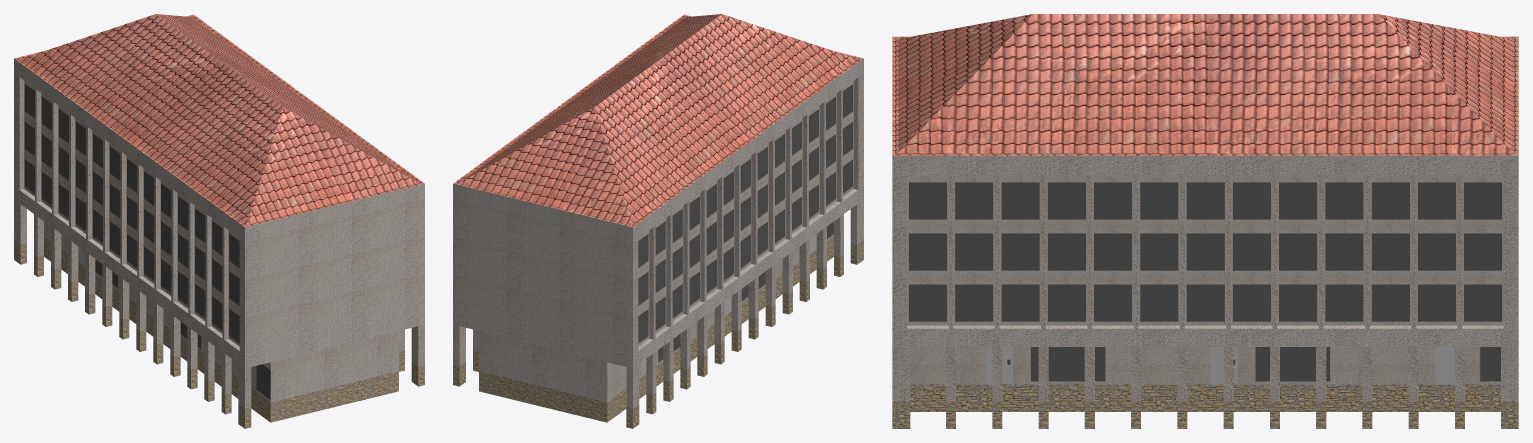
The model's file is urban_mixed_use.fbx.
The picture shows the model from 3 angles, left to right: view 1: azimuth 30°, elevation 25°; view 2: azimuth 150°, elevation 25°; view 3: azimuth 270°, elevation 25°; orthographic projection. The views are drawn at different scales.
Parts seen in each view (by area): view 1: Mixed #lod0; view 2: Mixed #lod0; view 3: Mixed #lod0.
Part boxes in pixels (x1,y1,x2,y2): Mixed #lod0: (14, 14, 424, 428); Mixed #lod0: (453, 14, 863, 428); Mixed #lod0: (892, 14, 1518, 428).
Size of what is drawn, in the model's own units: 1400 by 3115 by 1950.
Materials: 1 (1 with a texture image).
